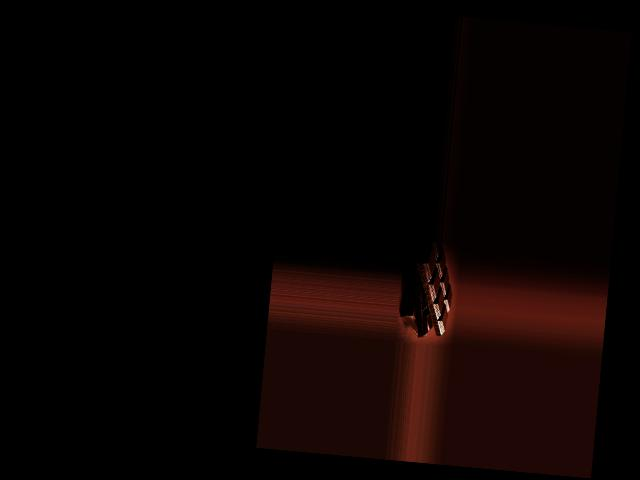chocolate: (404, 242, 455, 339)
